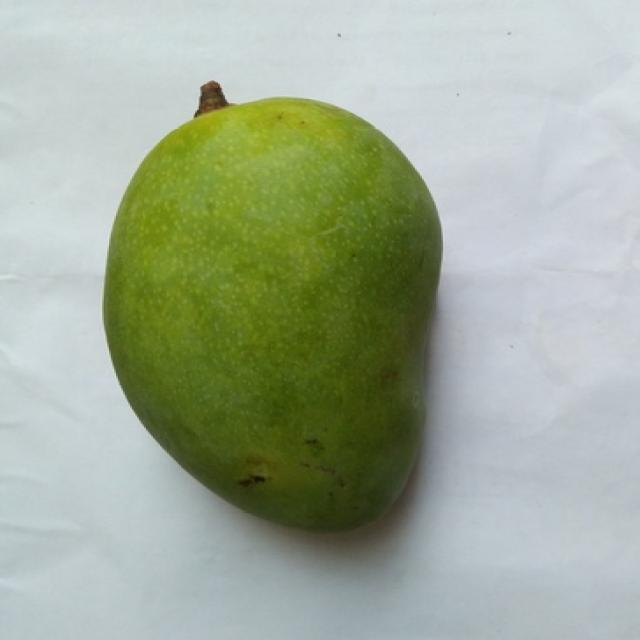Mango: (104, 87, 441, 531)
